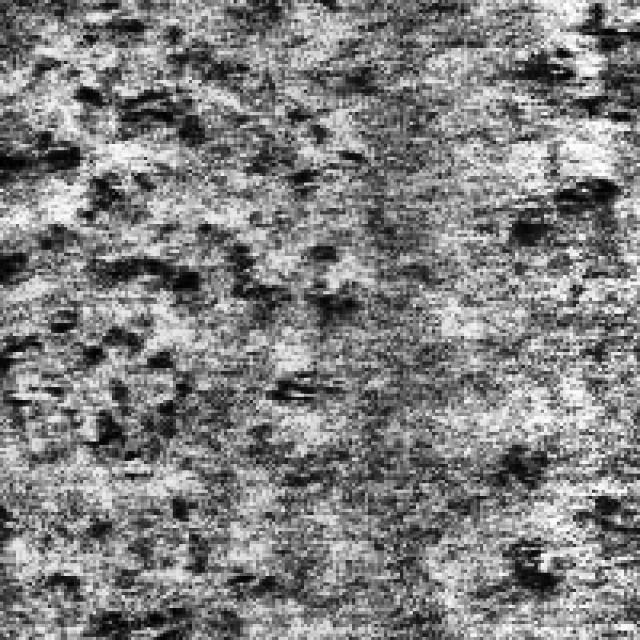Crazing: (0, 131, 218, 627), (228, 83, 358, 410), (12, 13, 218, 214), (486, 156, 621, 262)
